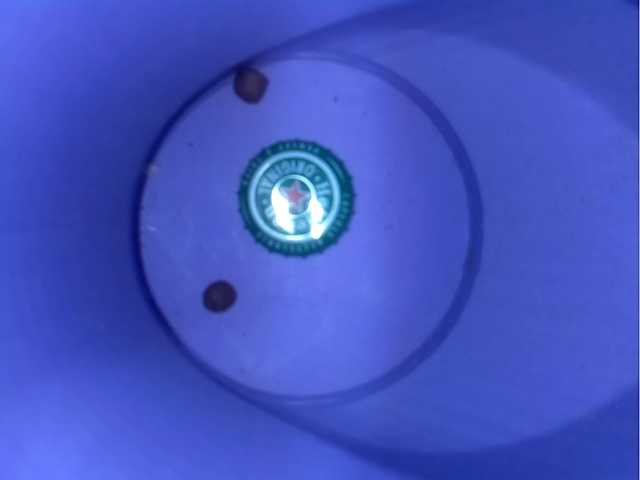capsule: (224, 125, 370, 265)
croquette: (222, 60, 278, 110), (198, 271, 247, 323)
